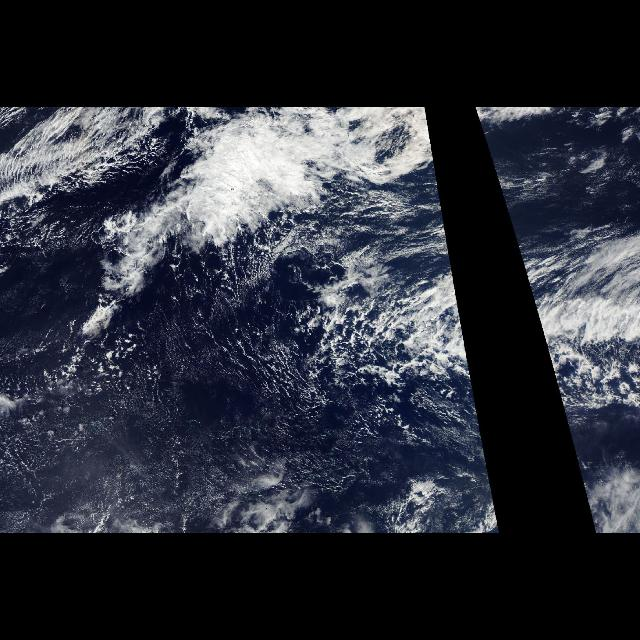Fish: (0, 107, 162, 217)
Gravel: (228, 232, 412, 350)
Sugar: (0, 268, 470, 532), (496, 178, 640, 284), (338, 178, 456, 284)
